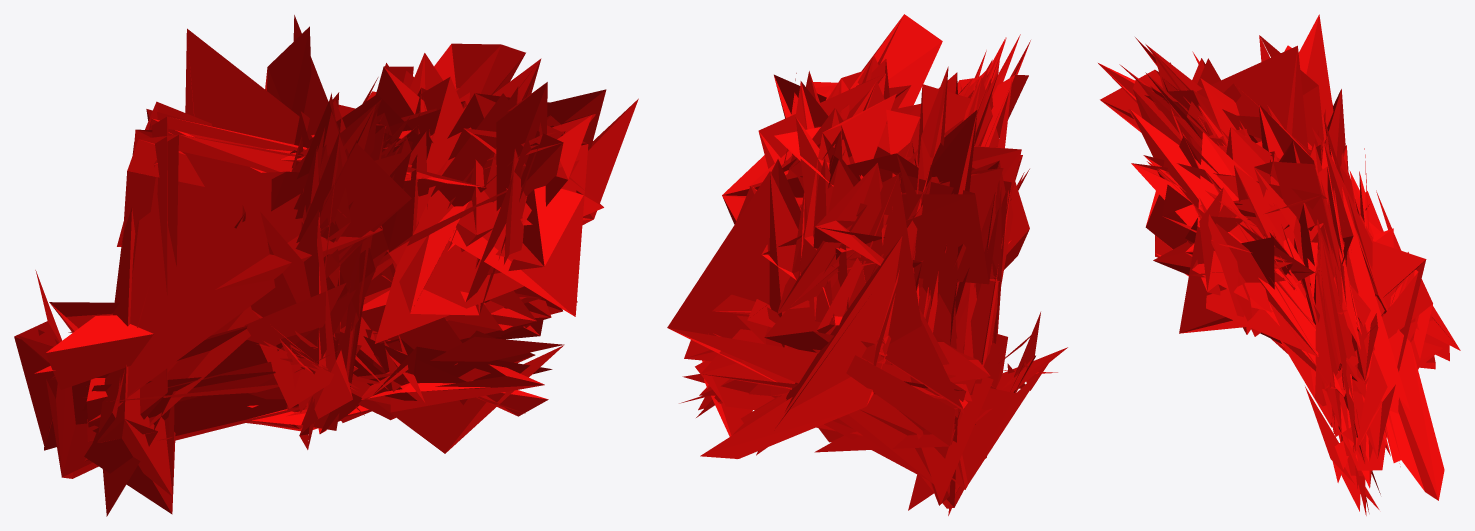
The picture shows the model from 3 angles, left to right: view 1: azimuth 30°, elevation 25°; view 2: azimuth 150°, elevation 25°; view 3: azimuth 270°, elevation 25°; orthographic projection. The views are drawn at different scales.
Visible parts, largest first — view 1: Renderer Node; view 2: Renderer Node; view 3: Renderer Node.
Boxes of the visible parts, x1,y1,x2,y2 form: Renderer Node: (14,15,638,516); Renderer Node: (667,14,1067,515); Renderer Node: (1098,14,1460,515).
Size of the model in its own units: 0.7198 by 0.6689 by 0.5447.
Materials: 1 (1 with a texture image).
